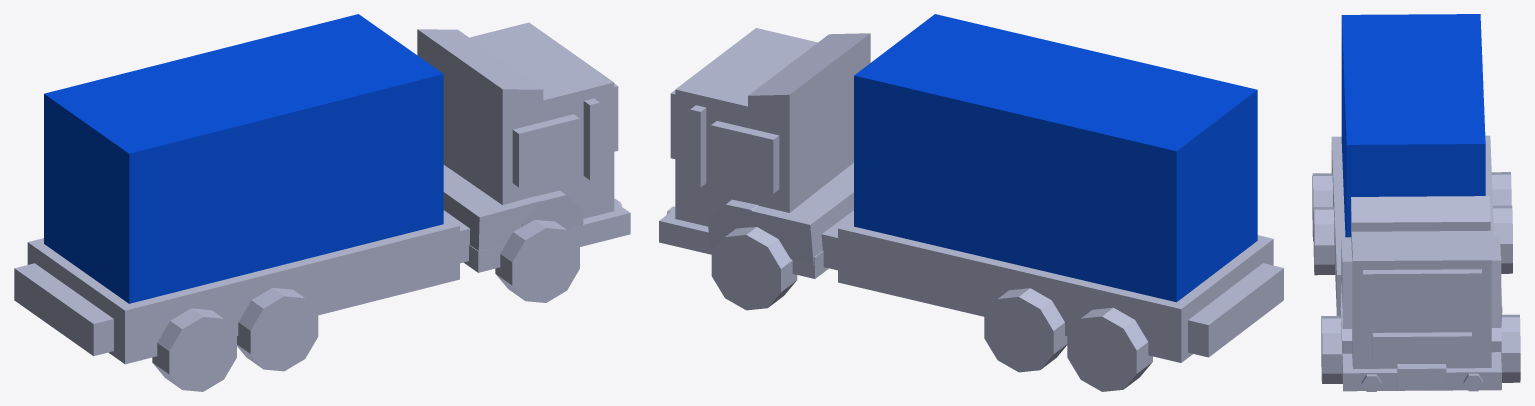
Rendered from CarBox.glb.
The picture shows the model from 3 angles, left to right: view 1: azimuth 30°, elevation 25°; view 2: azimuth 150°, elevation 25°; view 3: azimuth 270°, elevation 25°; orthographic projection. The views are drawn at different scales.
Parts seen in each view (by area): view 1: CarBox; view 2: CarBox; view 3: CarBox.
Part boxes in pixels (<box>): CarBox: <box>14,14,630,391</box>; CarBox: <box>659,14,1283,391</box>; CarBox: <box>1312,14,1520,391</box>.
Bounding box in the file's own units: 2.23 × 0.9469 × 0.8903.
